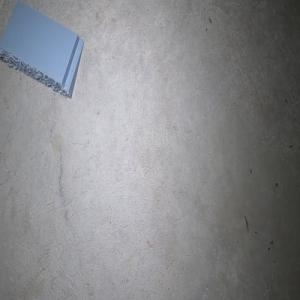PlasticPart: (0, 0, 84, 98)
